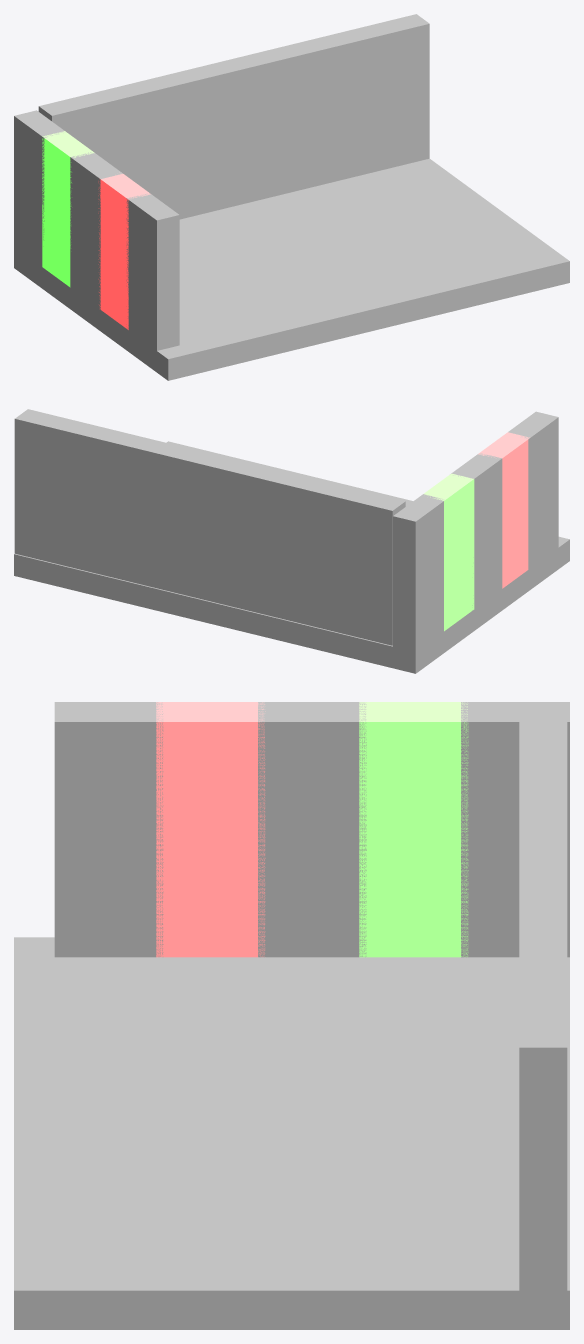
File: lit_room.glb
3 views of the same model, one above another, from view 1: azimuth 30°, elevation 25°; view 2: azimuth 150°, elevation 25°; view 3: azimuth 270°, elevation 25° (orthographic). The views are drawn at different scales.
Parts seen in each view (by area): view 1: Cube, Cube.002, Cube.006, Cube.004, Cube.001, Cube.005, Cube.003; view 2: Cube.002, Cube, Cube.001, Cube.003, Cube.006, Cube.004, Cube.005; view 3: Cube, Cube.002, Cube.005, Cube.006, Cube.003, Cube.004, Cube.001.
Part boxes in pixels (x1,y1,x2,y2): Cube: [14, 158, 569, 380]; Cube.002: [38, 14, 429, 219]; Cube.006: [126, 193, 179, 350]; Cube.004: [70, 152, 122, 309]; Cube.001: [14, 110, 64, 266]; Cube.005: [98, 172, 150, 329]; Cube.003: [42, 131, 94, 287]; Cube.002: [14, 409, 405, 645]; Cube: [14, 441, 569, 673]; Cube.001: [393, 494, 443, 652]; Cube.003: [424, 473, 474, 631]; Cube.006: [508, 411, 558, 569]; Cube.004: [451, 453, 502, 608]; Cube.005: [478, 432, 529, 588]; Cube: [14, 937, 569, 1329]; Cube.002: [519, 715, 567, 1290]; Cube.005: [156, 702, 265, 957]; Cube.006: [54, 702, 163, 957]; Cube.003: [359, 702, 468, 957]; Cube.004: [258, 702, 366, 957]; Cube.001: [461, 702, 569, 957].
Size of the model in its own units: 16.46 by 6.13 by 10.95.
